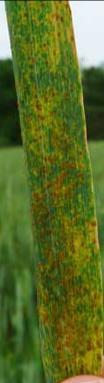Wheat: (46, 246, 99, 371), (34, 116, 83, 230), (20, 7, 63, 103)
